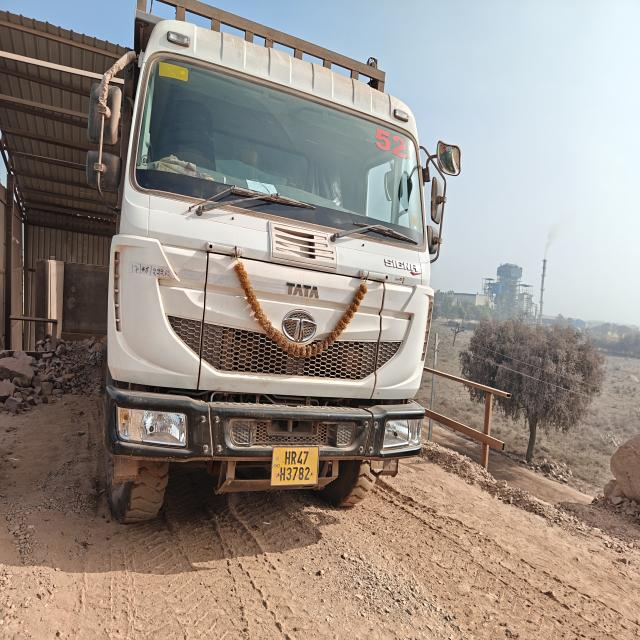license_plate: (271, 446, 319, 486)
